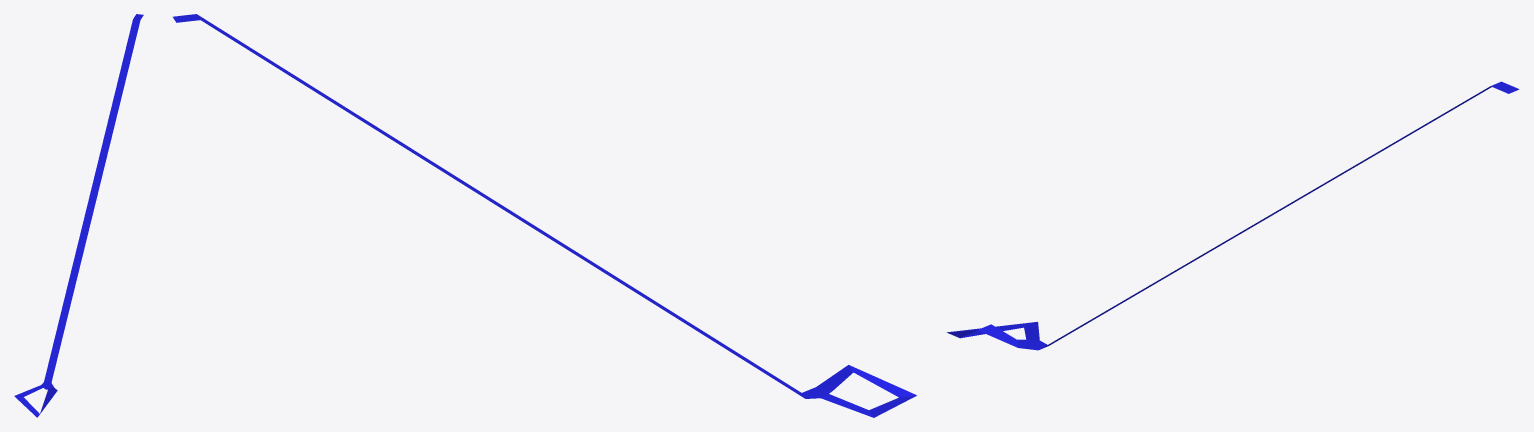
File: Nav.glb
The picture shows the model from 3 angles, left to right: view 1: azimuth 30°, elevation 25°; view 2: azimuth 150°, elevation 25°; view 3: azimuth 270°, elevation 25°; orthographic projection. The views are drawn at different scales.
Visible parts, largest first — view 1: nav; view 2: nav; view 3: nav.
Boxes of the visible parts, box(x1,y1,x2,y2) form: nav: box(14, 14, 143, 417); nav: box(173, 14, 916, 417); nav: box(946, 81, 1519, 350).
Bounding box in the file's own units: 73.06 × 67.64 × 73.33.
